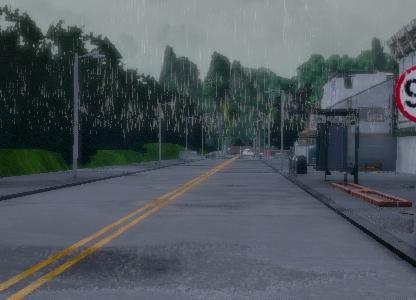Speed_90: (394, 65, 416, 124)
